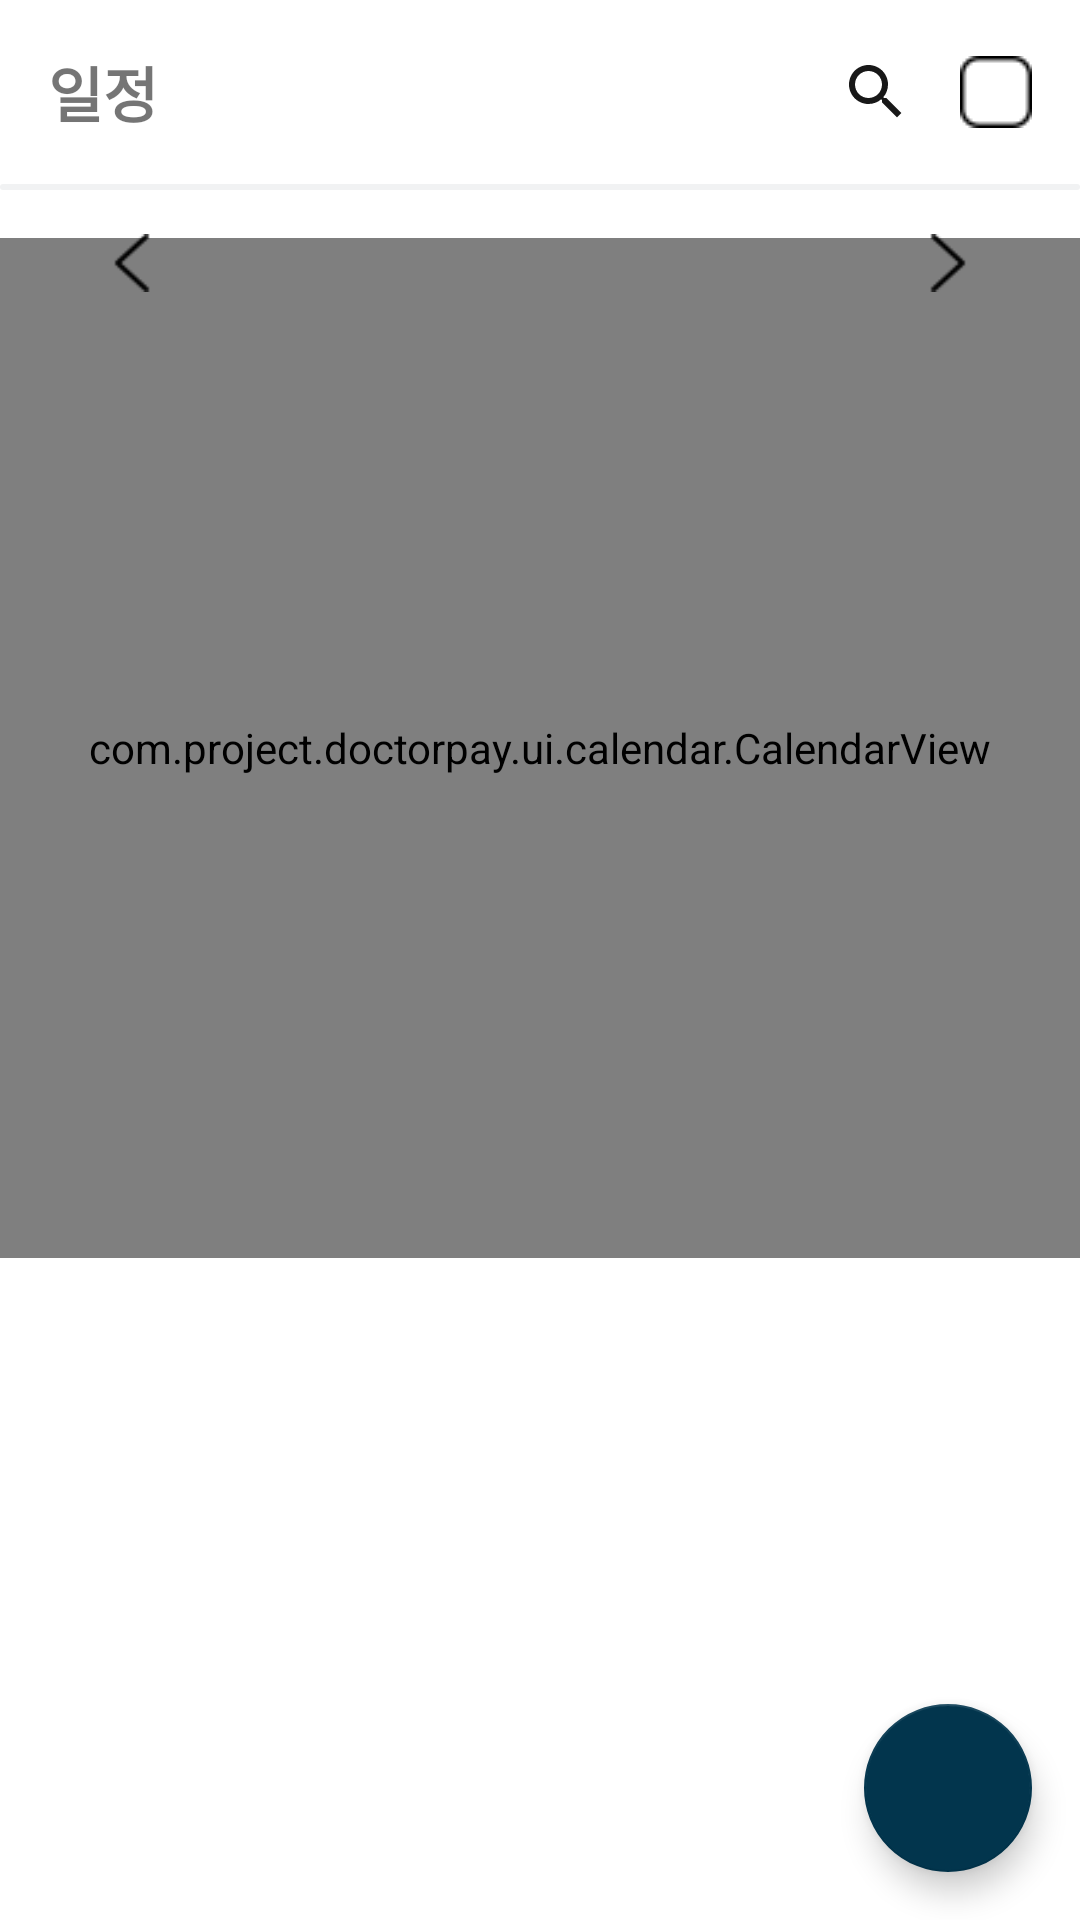

Where icons sit on this 1080×1920 app screen, as (x1=x1, y1=y1, x2=x2, y2=y2):
box: (x1=960, y1=56, x2=1032, y2=128)
search: (x1=849, y1=65, x2=901, y2=117)
